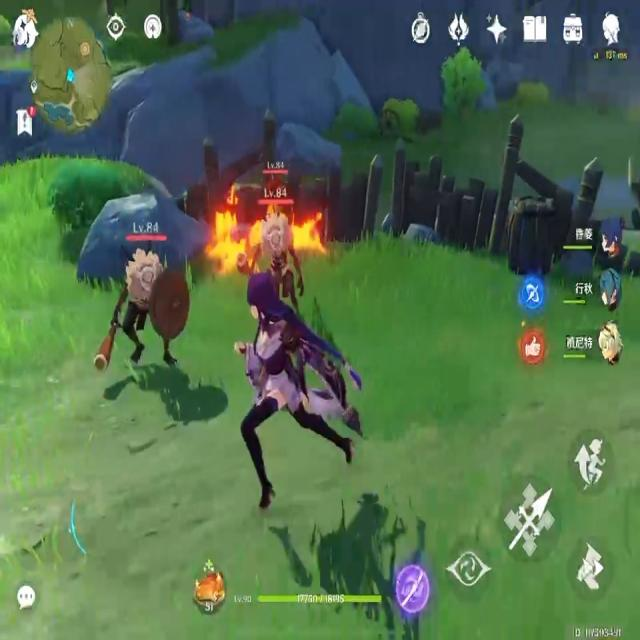genshin-hilichurls: (86, 223, 197, 367), (252, 209, 303, 281), (259, 163, 285, 204)
